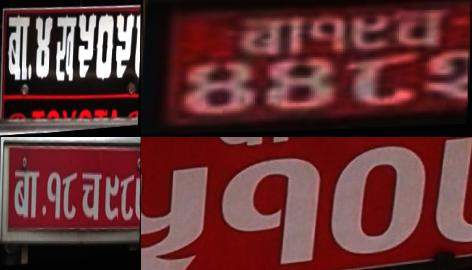0: (327, 143, 431, 264), (96, 12, 115, 84)
1: (214, 153, 326, 270), (308, 15, 352, 62), (44, 164, 63, 228)
2: (423, 52, 470, 115)
4: (179, 58, 267, 118), (260, 57, 343, 120), (31, 11, 55, 85)
5: (141, 161, 212, 270), (76, 11, 98, 85), (114, 10, 134, 85)
7: (433, 137, 472, 249)
8: (339, 52, 425, 119), (60, 166, 78, 228), (120, 174, 136, 230)
9: (351, 12, 393, 60), (103, 169, 120, 228), (132, 11, 141, 86), (134, 174, 141, 229)
ba: (230, 13, 307, 61), (5, 11, 34, 88), (209, 137, 311, 156), (12, 163, 40, 226)
cha: (393, 6, 454, 56), (80, 166, 103, 229)
kha: (54, 12, 78, 87)
